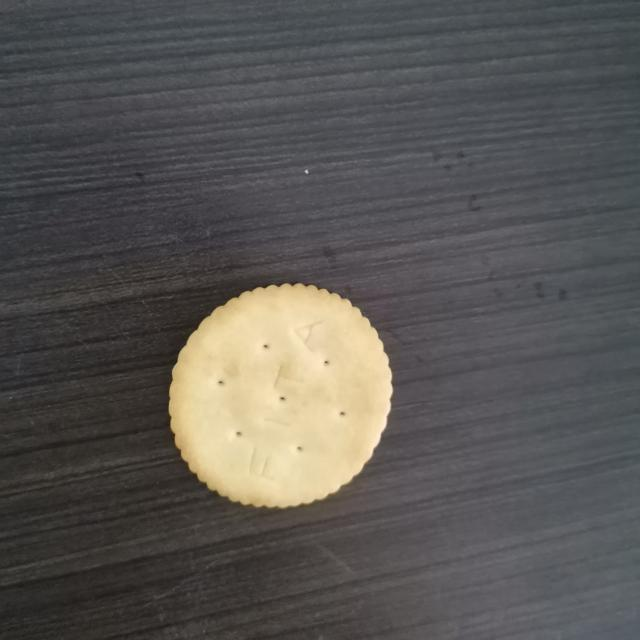Intact: (156, 275, 405, 524)
